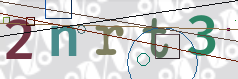2: (3, 15, 36, 63)
3: (185, 12, 218, 58)
n: (47, 21, 81, 59)
r: (92, 22, 126, 58)
t: (139, 15, 171, 60)
